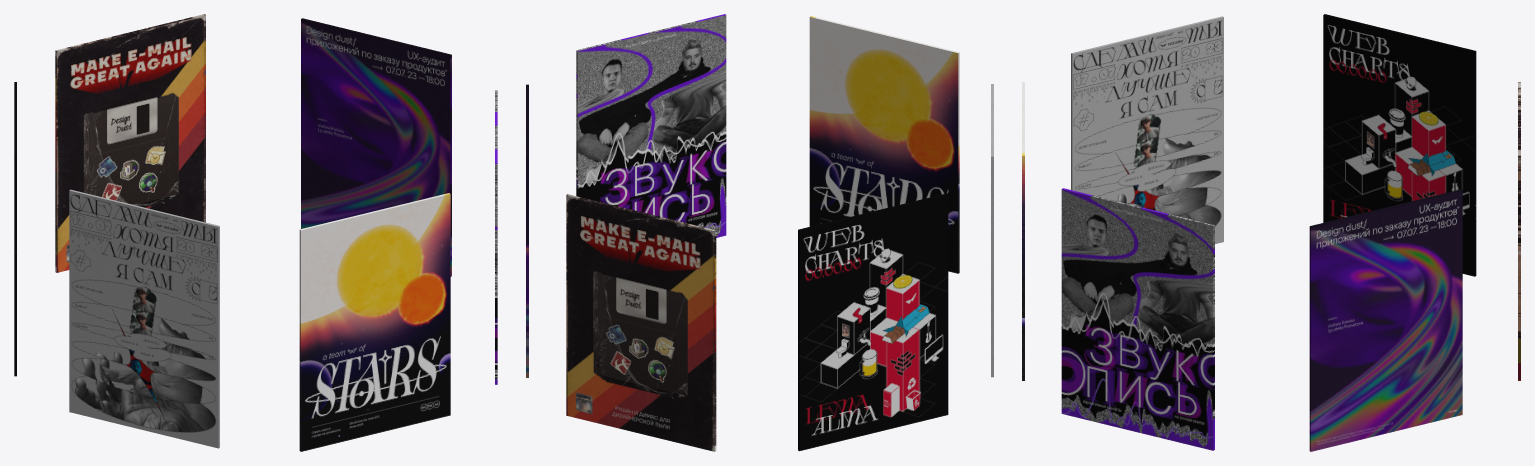
The picture shows the model from 3 angles, left to right: view 1: azimuth 30°, elevation 25°; view 2: azimuth 150°, elevation 25°; view 3: azimuth 270°, elevation 25°; orthographic projection.
Visible parts, largest first — view 1: 1_out, 2_out, 4_in, 5_in, 3_out, 6_out, 4_out, 5_out; view 2: 4_out, 3_out, 6_in, 1_in, 2_out, 5_out, 1_out, 6_out; view 3: 6_out, 5_out, 3_in, 2_in, 1_out, 4_out, 3_out, 2_out.
Part boxes in pixels (x1=…): 1_out: x1=299, y1=193, x2=450, y2=451; 2_out: x1=69, y1=189, x2=219, y2=448; 4_in: x1=56, y1=15, x2=205, y2=272; 5_in: x1=301, y1=19, x2=450, y2=228; 3_out: x1=14, y1=82, x2=16, y2=376; 6_out: x1=495, y1=90, x2=497, y2=384; 4_out: x1=55, y1=14, x2=205, y2=272; 5_out: x1=301, y1=18, x2=451, y2=276; 4_out: x1=566, y1=194, x2=716, y2=451; 3_out: x1=798, y1=193, x2=948, y2=451; 6_in: x1=577, y1=15, x2=726, y2=237; 1_in: x1=809, y1=17, x2=958, y2=273; 2_out: x1=991, y1=84, x2=993, y2=377; 5_out: x1=526, y1=84, x2=528, y2=377; 1_out: x1=810, y1=16, x2=959, y2=273; 6_out: x1=576, y1=14, x2=725, y2=196; 6_out: x1=1061, y1=188, x2=1214, y2=450; 5_out: x1=1309, y1=189, x2=1462, y2=451; 3_in: x1=1323, y1=15, x2=1474, y2=276; 2_in: x1=1072, y1=17, x2=1223, y2=243; 1_out: x1=1022, y1=82, x2=1024, y2=380; 4_out: x1=1518, y1=82, x2=1520, y2=380; 3_out: x1=1324, y1=14, x2=1476, y2=276; 2_out: x1=1071, y1=16, x2=1223, y2=189.
Bounding box in the file's own units: 2.04 × 1 × 2.01.
12 materials, 12 textured.
